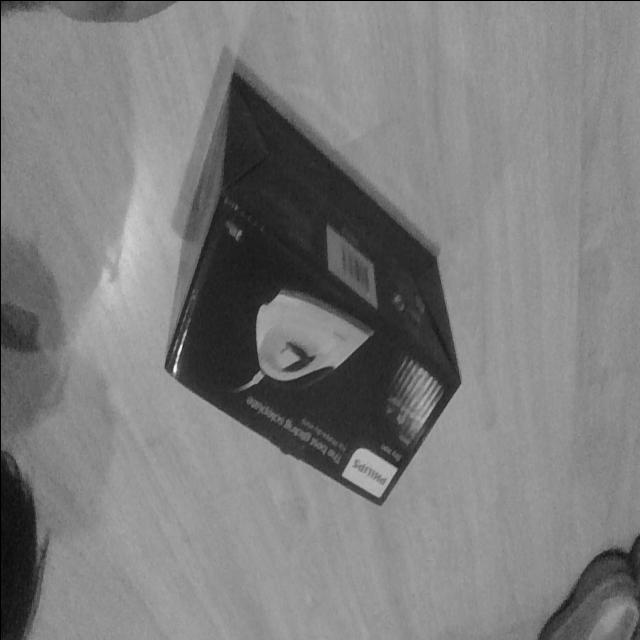IRON: (162, 62, 462, 510)
